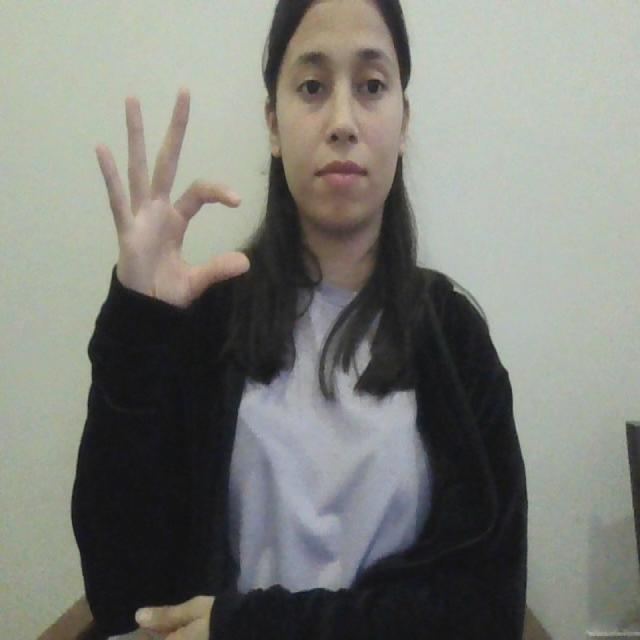Tuvalet: (82, 78, 263, 331)
